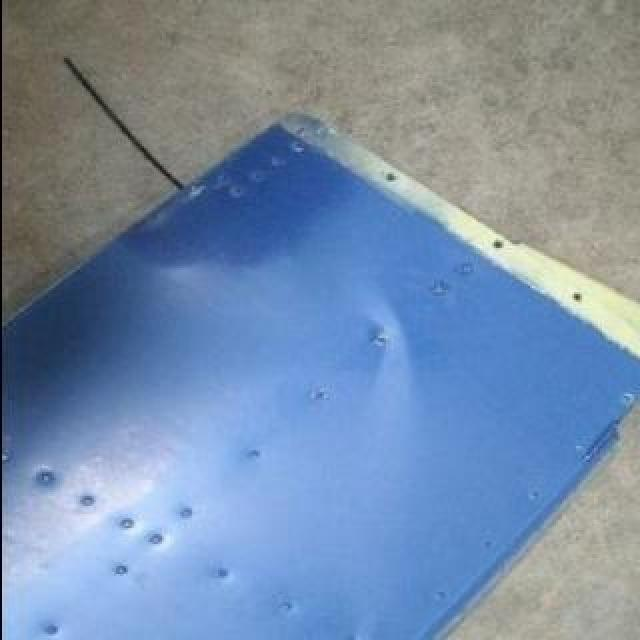dent: (361, 288, 423, 430), (124, 245, 296, 281)
